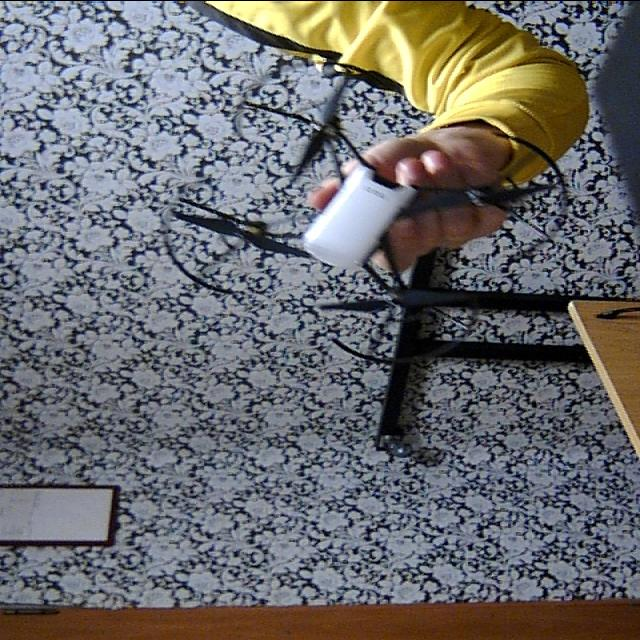drone: (166, 48, 581, 364)
